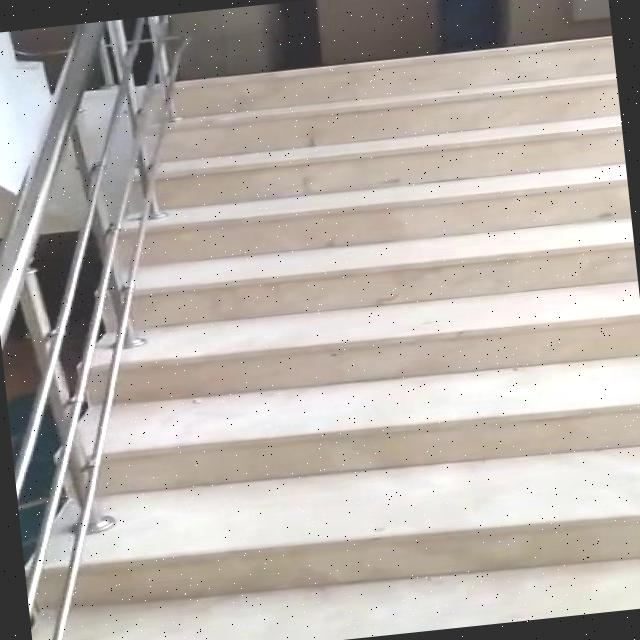stairs: (0, 33, 640, 624)
